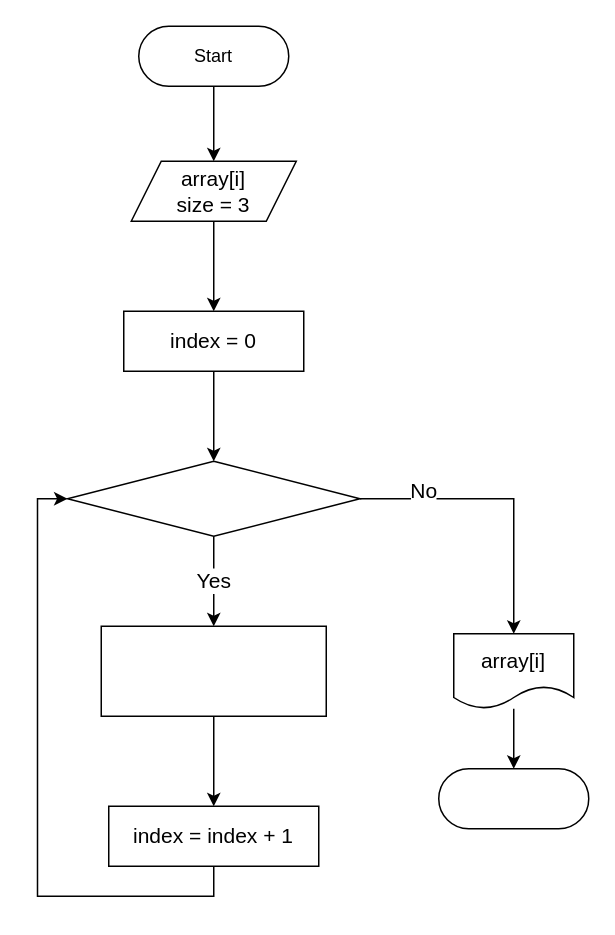
Image size: 615x935. Some labels were removed from this diagram. The shapes that lost their labels are listed below. From the top down, each one's box as (x1, y1, x2, y2) in pixels, then its label:
(66, 460, 360, 536): index <= size
(100, 625, 326, 716): Вывод соответствующего массива array[i]
(437, 767, 589, 829): End
